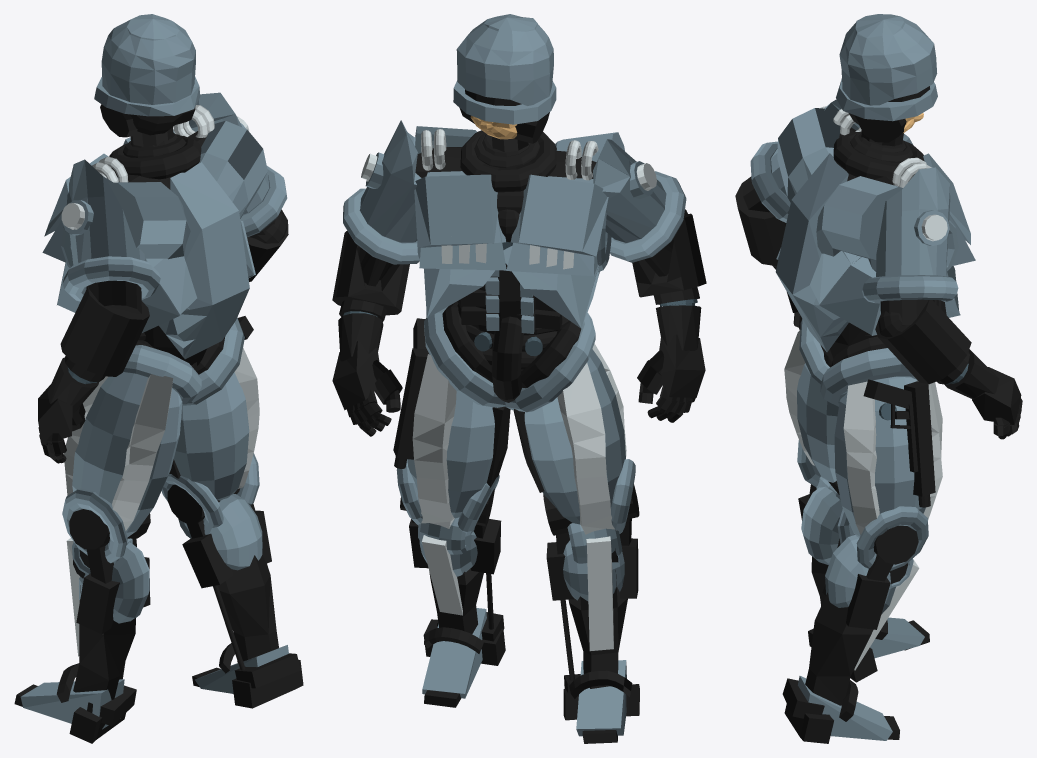
Rendered from Robocop.obj.
The picture shows the model from 3 angles, left to right: view 1: azimuth 30°, elevation 25°; view 2: azimuth 150°, elevation 25°; view 3: azimuth 270°, elevation 25°; orthographic projection. The views are drawn at different scales.
Visible parts, largest first — view 1: model_Mesh1; view 2: model_Mesh1; view 3: model_Mesh1.
Boxes of the visible parts, box(x1,y1,x2,y2) form: model_Mesh1: box(14, 14, 303, 743); model_Mesh1: box(332, 14, 706, 743); model_Mesh1: box(735, 14, 1022, 743).
Bounding box in the file's own units: 1.12 × 2.45 × 0.9304.
